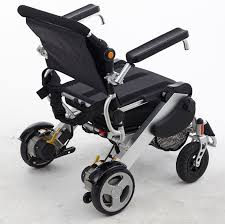wheelchair: (11, 9, 210, 211)
